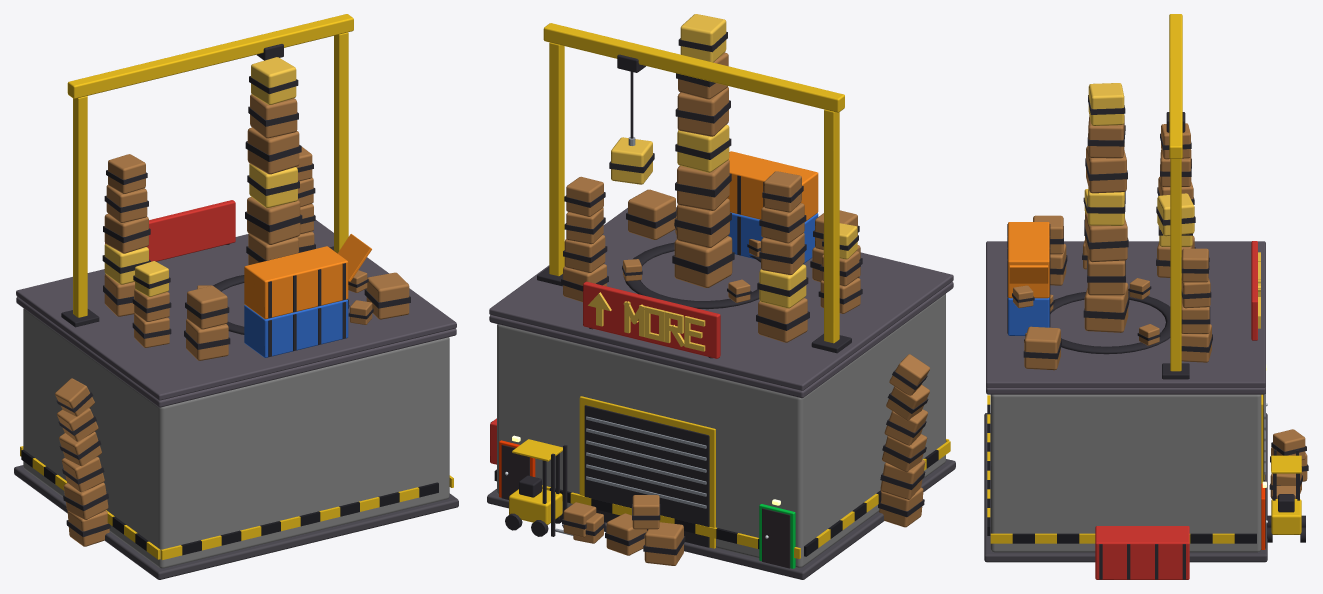
File: building_freight_warehouse_t3.glb
3 renders of one model, left to right at view 1: azimuth 30°, elevation 25°; view 2: azimuth 150°, elevation 25°; view 3: azimuth 270°, elevation 25°, orthographic. The views are drawn at different scales.
Parts seen in each view (by area): view 1: Walls, Roof.Parapet, Gantry.Beam, Cont2, Plinth, Sign.Panel, Cont1, Roof.Slab, Gantry.Leg, Gantry.Leg.001, T12.Box, T14.Box (+24 smaller); view 2: Walls, Roof.Parapet, BigDoor, Gantry.Beam, Sign.Panel, Roof.Slab, Gantry.Leg, Gantry.Leg.001, Cont2, Plinth, BigDoor.Slat, BigDoor.Frame (+36 smaller); view 3: Walls, Roof.Parapet, Cont3, Plinth, Gantry.Leg.001, Cont2, Roof.Slab, Gantry.Beam, Belt, T10.Box, T60.Box, T16.Box (+22 smaller).
Part boxes in pixels (<box>): Walls: <box>23,308,449,568</box>; Roof.Parapet: <box>16,220,456,400</box>; Gantry.Beam: <box>67,14,353,98</box>; Cont2: <box>244,246,348,319</box>; Plinth: <box>14,465,458,579</box>; Sign.Panel: <box>105,200,235,261</box>; Cont1: <box>244,299,348,357</box>; Roof.Slab: <box>16,297,456,407</box>; Gantry.Leg: <box>73,96,87,317</box>; Gantry.Leg.001: <box>334,32,348,252</box>; T12.Box: <box>247,197,300,244</box>; T14.Box: <box>247,127,299,174</box>; Walls: <box>497,294,945,567</box>; Roof.Parapet: <box>489,207,953,390</box>; BigDoor: <box>584,405,709,547</box>; Gantry.Beam: <box>543,23,844,112</box>; Sign.Panel: <box>583,281,720,358</box>; Roof.Slab: <box>489,281,953,398</box>; Gantry.Leg: <box>824,109,839,343</box>; Gantry.Leg.001: <box>549,42,564,276</box>; Cont2: <box>727,151,818,221</box>; Plinth: <box>487,459,955,579</box>; BigDoor.Slat: <box>586,416,706,508</box>; BigDoor.Frame: <box>579,396,715,548</box>; Walls: <box>990,394,1261,552</box>; Roof.Parapet: <box>986,241,1265,387</box>; Cont3: <box>1095,526,1189,579</box>; Plinth: <box>984,413,1267,562</box>; Gantry.Leg.001: <box>1170,159,1181,371</box>; Cont2: <box>1008,222,1049,298</box>; Roof.Slab: <box>986,386,1265,394</box>; Gantry.Beam: <box>1169,14,1182,158</box>; Belt: <box>1050,292,1170,354</box>; T10.Box: <box>1084,282,1128,332</box>; T60.Box: <box>1024,326,1060,370</box>; T16.Box: <box>1088,83,1124,125</box>.
Size of the model in its own units: 7.57 by 8.27 by 5.84.
